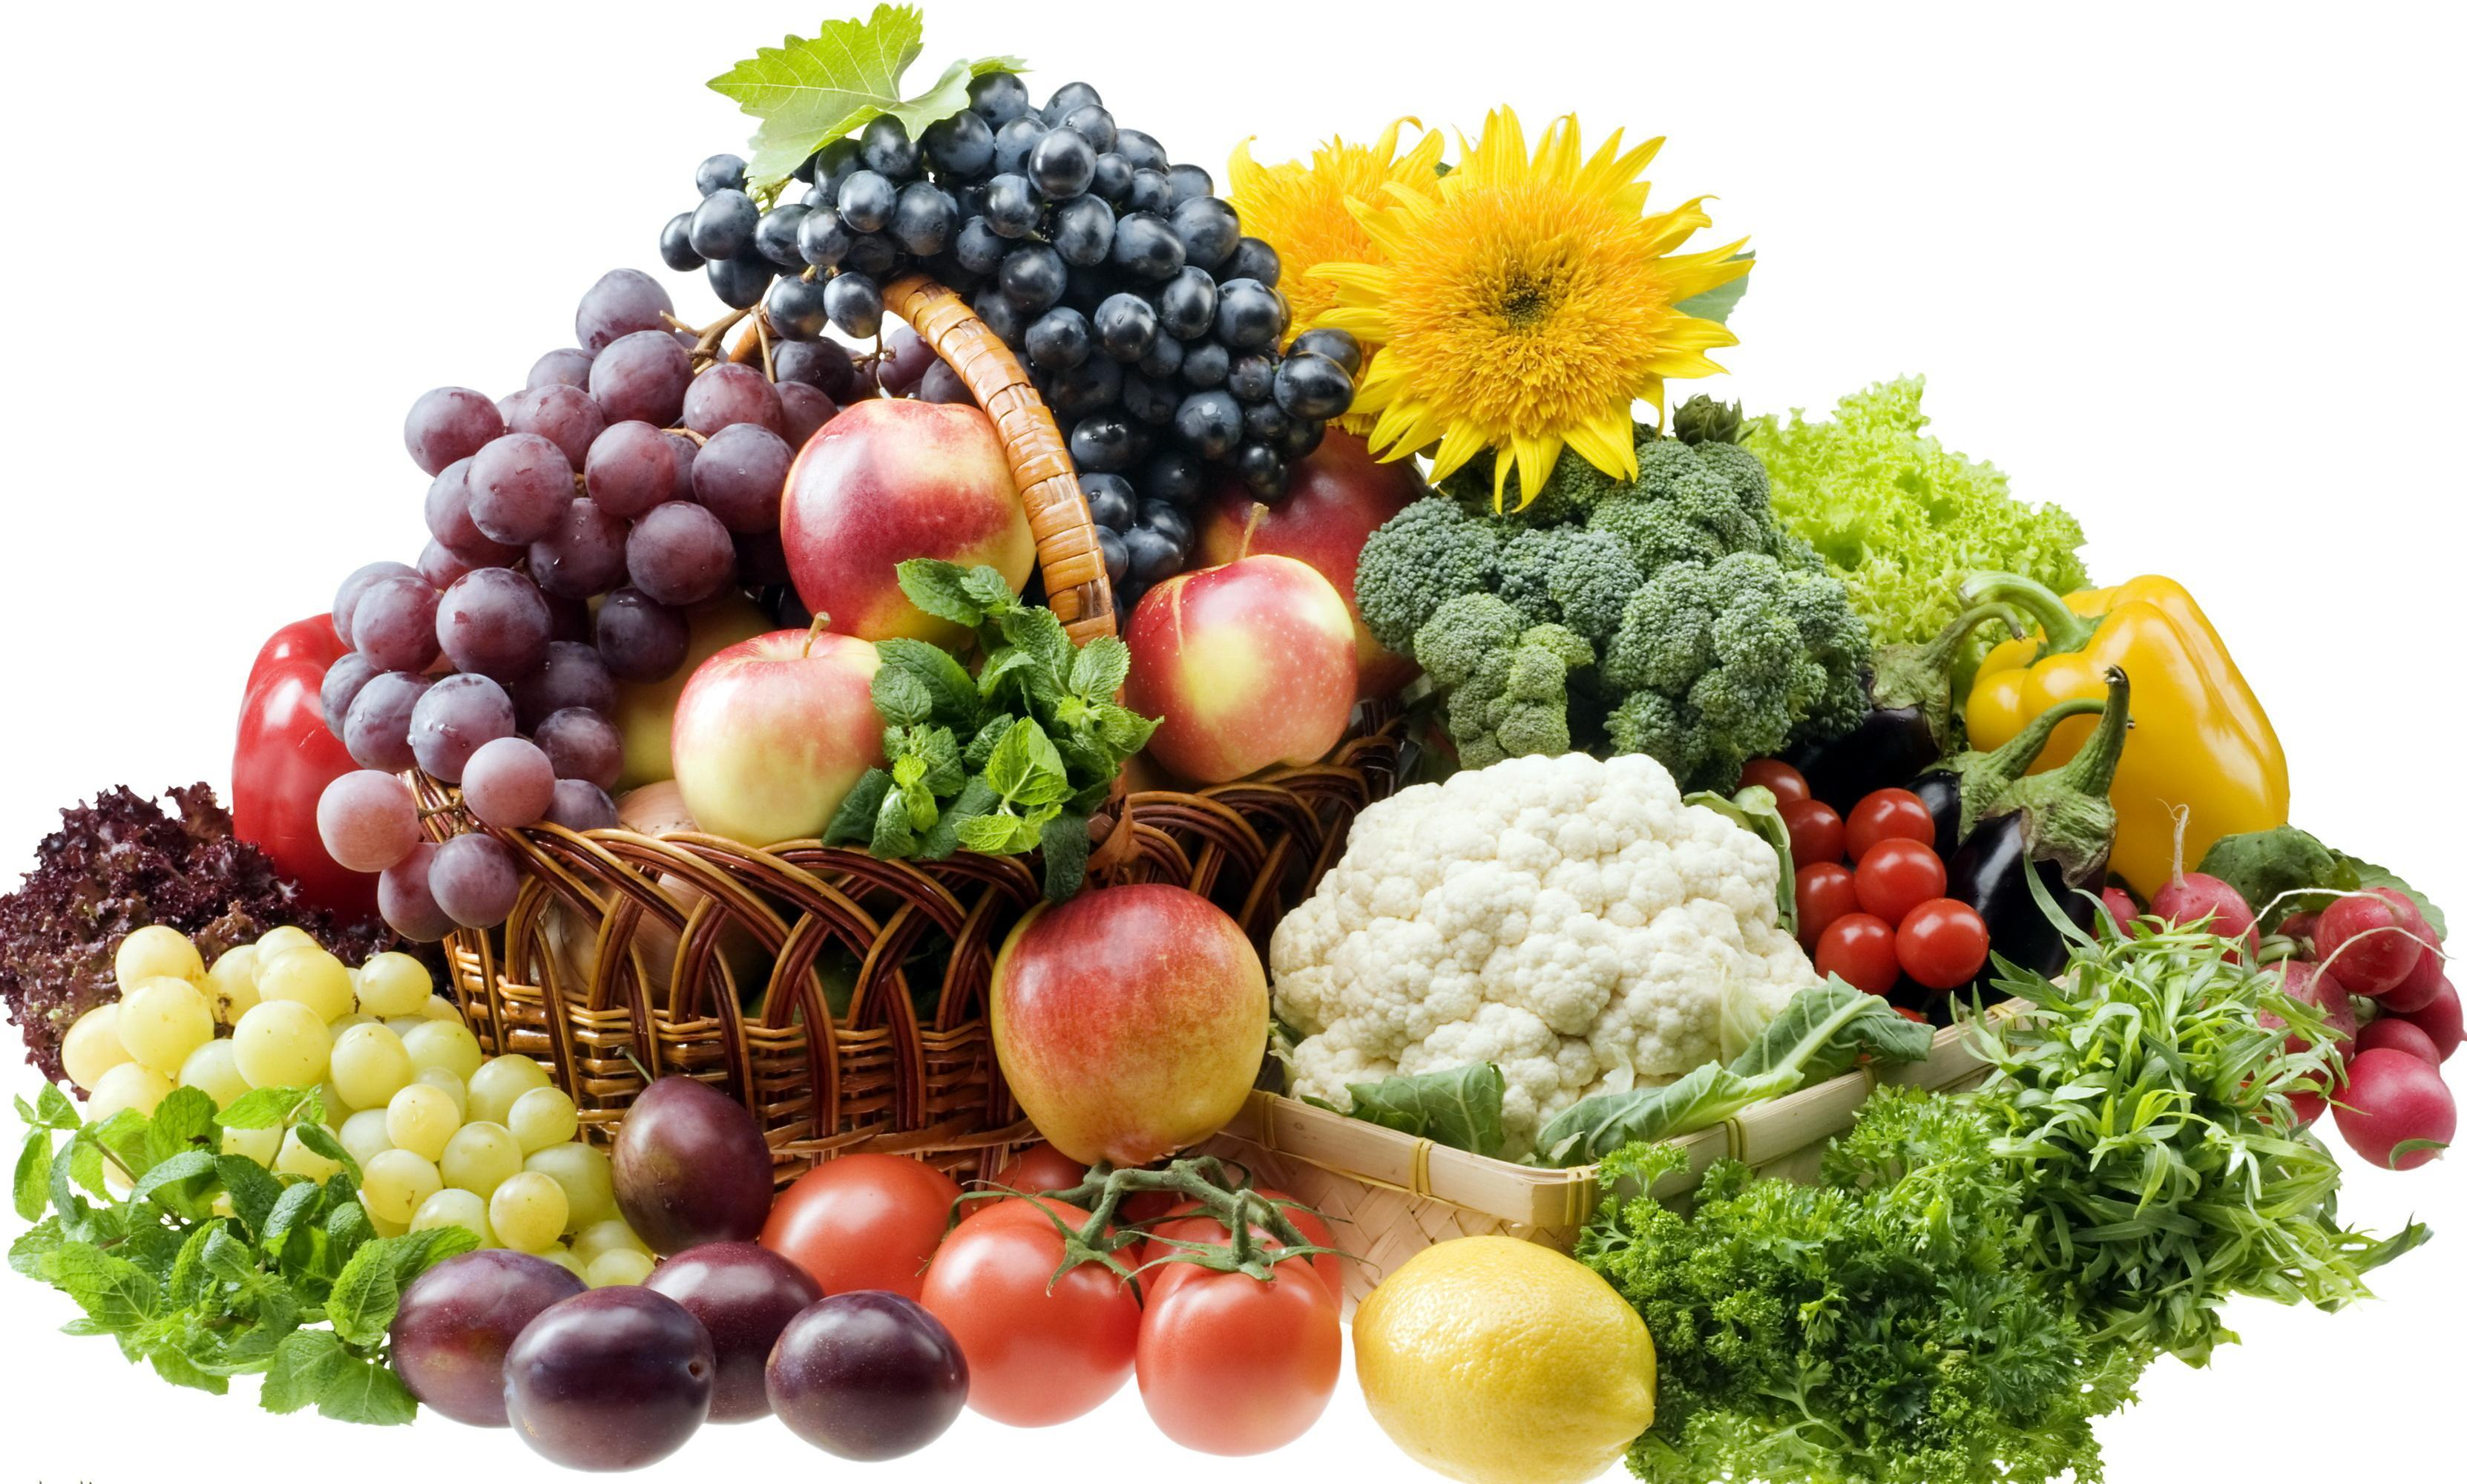apple: (987, 879, 1274, 1176), (784, 390, 1026, 650), (1126, 545, 1378, 784), (670, 619, 893, 844)
